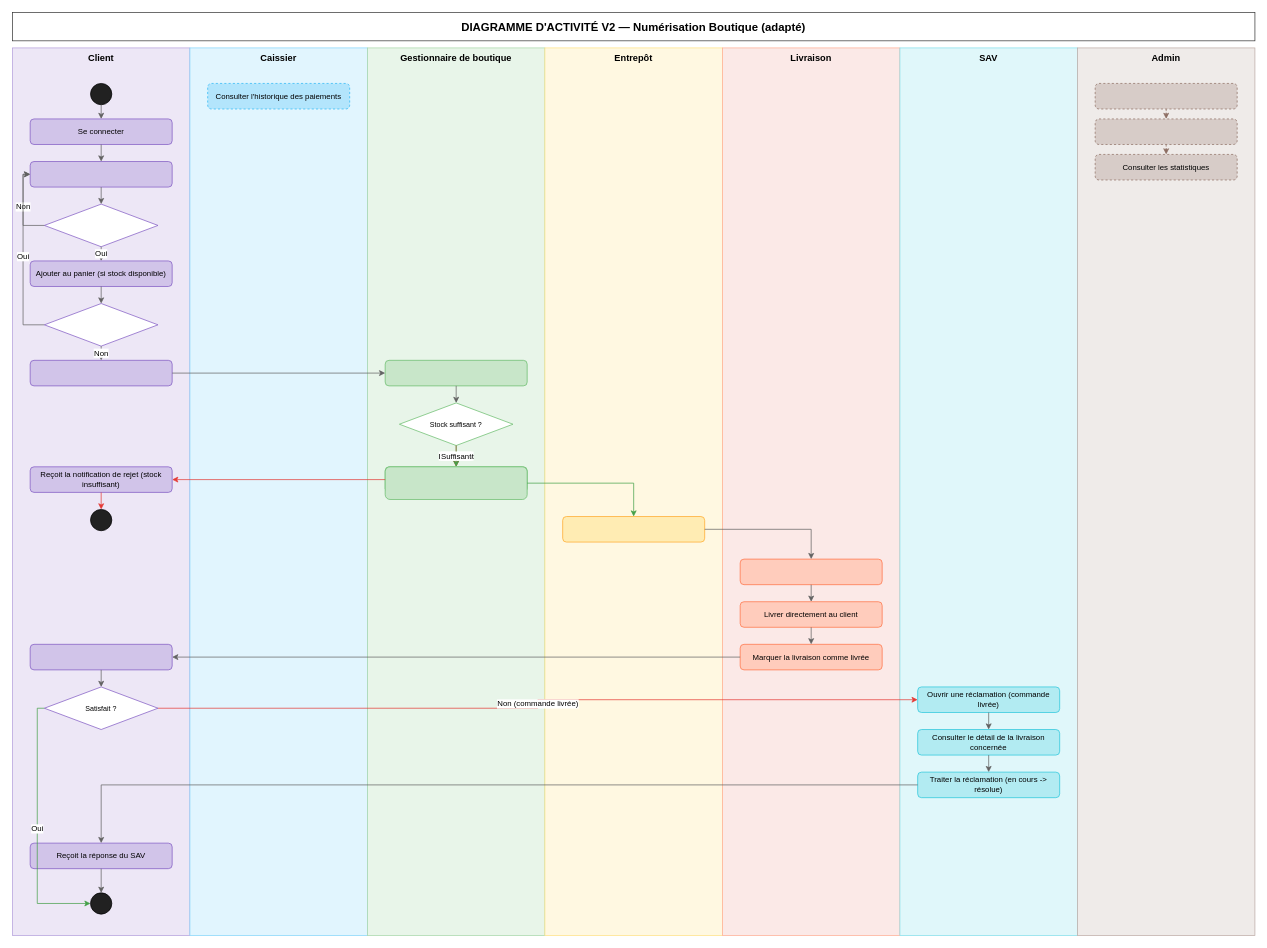
The diagram is 1267 pixels wide and 948 high, and some of its shapes have lost their labels. The centre of each missing label's shape, as x and y in pixels:
Attribuer un livreur à la commande validée: the point at 633,529
Gérer les utilisateurs & les rôles (7 rôles): the point at 1165,131
Ouvrir la file d'attente et vérifier la commande: the point at 455,373
Parcourir le catalogue: the point at 100,174
Poursuivre les achats ?: the point at 101,324
Produit trouvé ?: the point at 101,225
Reçoit la commande livrée: the point at 100,657
Récupérer le colis (statut : en cours): the point at 810,571
Superviser la plateforme (accès à tout): the point at 1165,96
Valider : décrémenter le stock + générer la facture PDF: the point at 455,482
Valider la commande (paiement simulé): the point at 100,373
